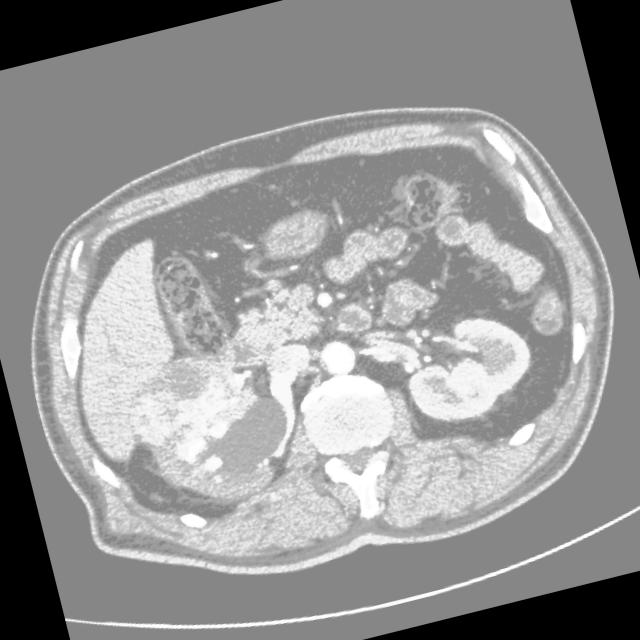TUMOR: (19, 192, 541, 532)
